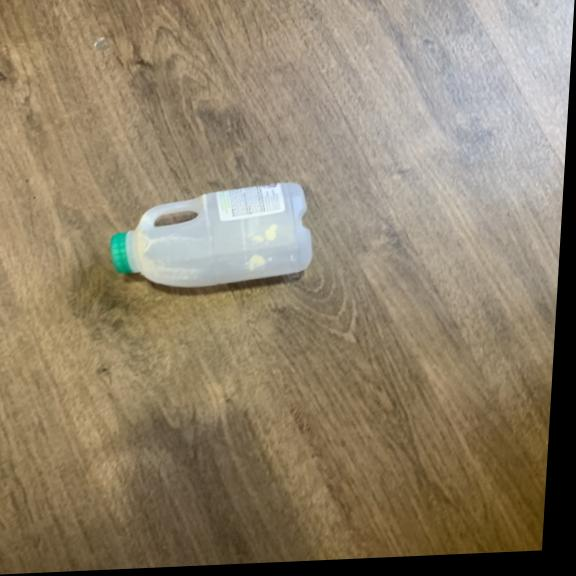Plastik: (98, 181, 327, 292)
